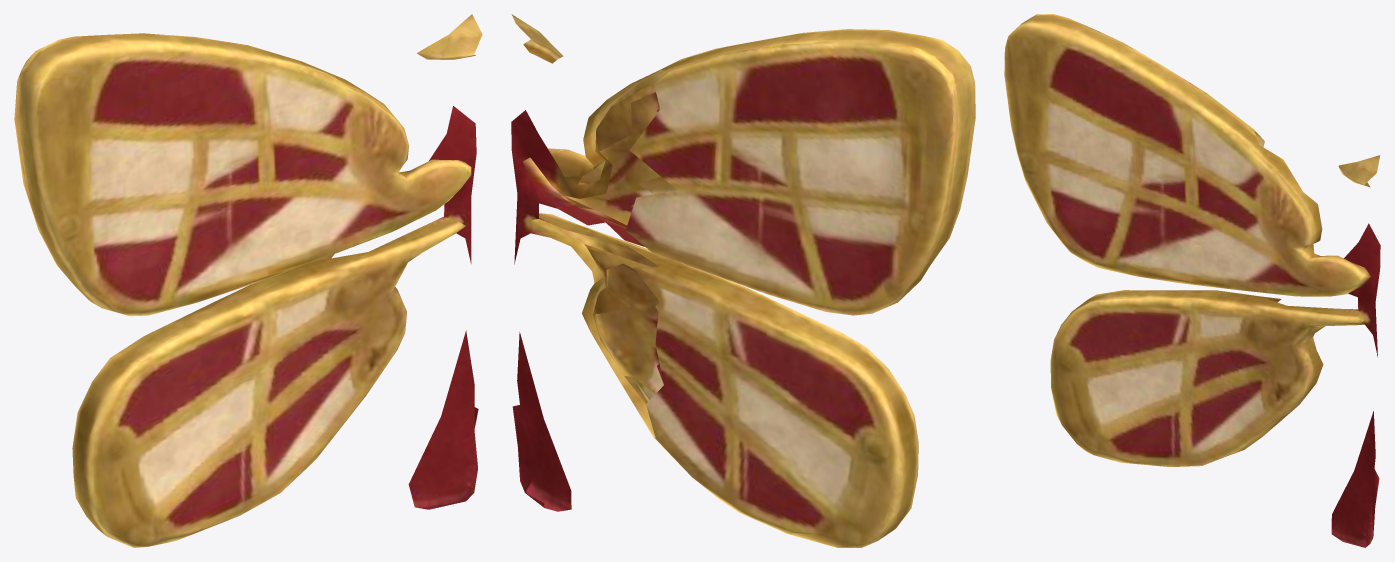
Rendered from doorman-left.glb.
3 renders of one model, left to right at view 1: azimuth 30°, elevation 25°; view 2: azimuth 150°, elevation 25°; view 3: azimuth 330°, elevation 25°, orthographic. The views are drawn at different scales.
Visible parts, largest first — view 1: Mesh_0.001; view 2: Mesh_0.001; view 3: Mesh_0.001.
Part boxes in pixels (bbox=[...]): Mesh_0.001: bbox=[14, 14, 482, 547]; Mesh_0.001: bbox=[511, 14, 975, 547]; Mesh_0.001: bbox=[1004, 14, 1380, 547].
Size of the model in its own units: 0.7936 by 0.927 by 0.0945.
1 material, 1 textured.
